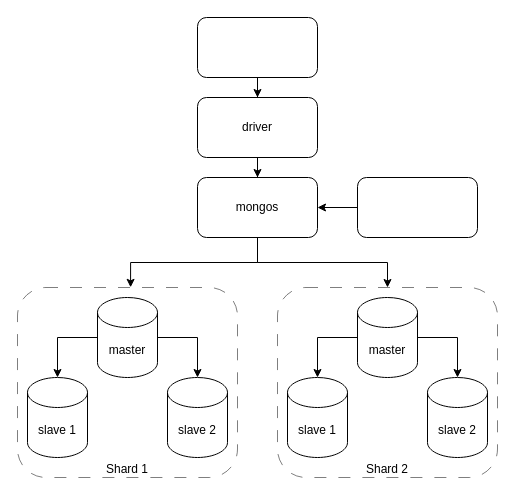
Image size: 515x495. Some labels were removed from this diagram. Each missing label, with the centre of its shape:
"config server" goes at [417,207].
"pymongo-api" goes at [257,47].
